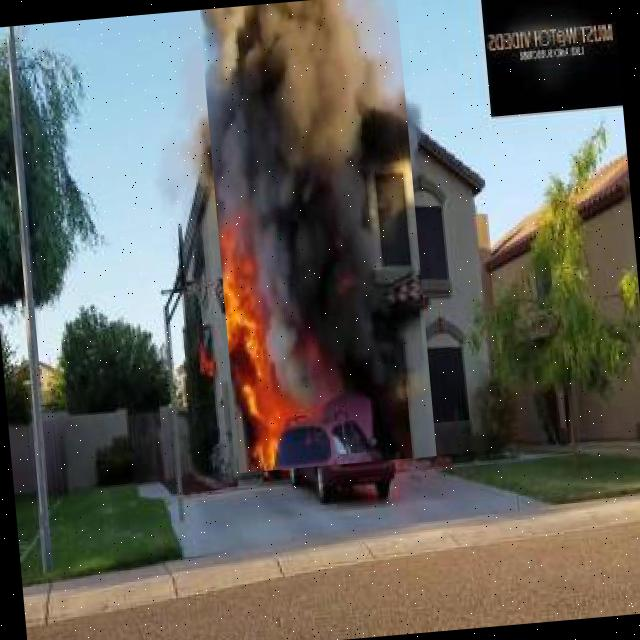fire: (198, 0, 436, 472)
